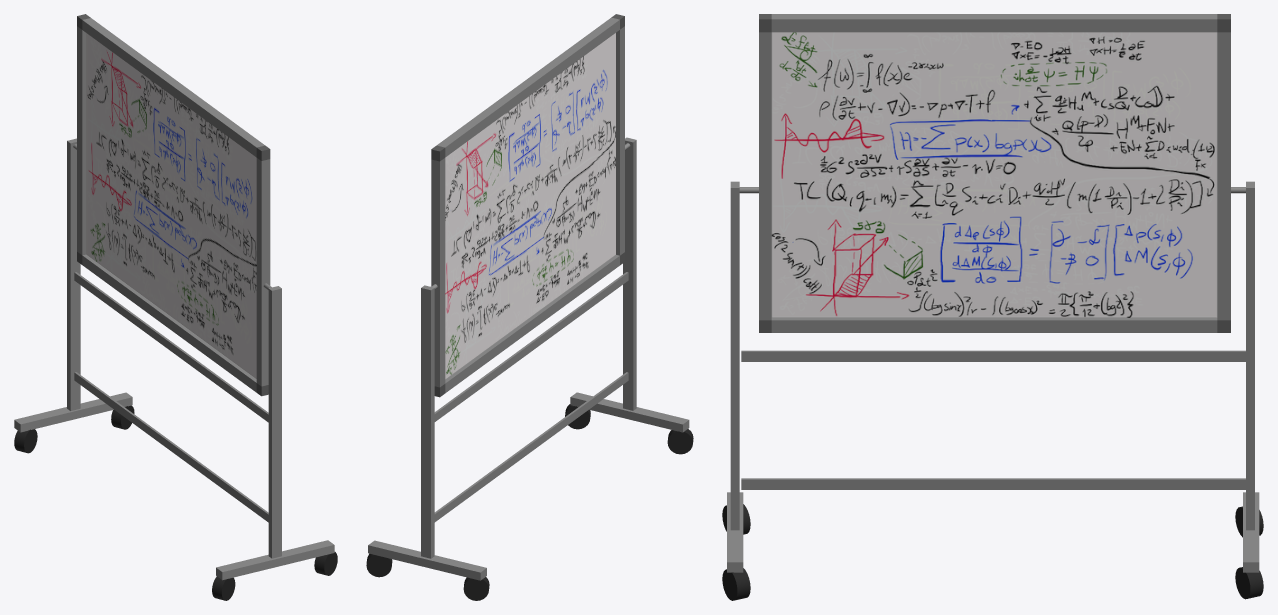
Rendered from white_board_2.glb.
3 views of the same model, side by side, from view 1: azimuth 30°, elevation 25°; view 2: azimuth 150°, elevation 25°; view 3: azimuth 270°, elevation 25° (orthographic). The views are drawn at different scales.
Parts seen in each view (by area): view 1: pCube1, pCube3; view 2: pCube1, pCube3; view 3: pCube1, pCube3.
Boxes of the visible parts, box(x1,y1,x2,y2) form: pCube1: box(77, 14, 270, 396); pCube3: box(14, 138, 337, 600); pCube1: box(431, 14, 624, 397); pCube3: box(366, 137, 693, 600); pCube1: box(759, 14, 1230, 332); pCube3: box(722, 181, 1263, 600).
Size of the model in its own units: 4.62 by 15 by 13.39.
Materials: 4 (1 with a texture image).
